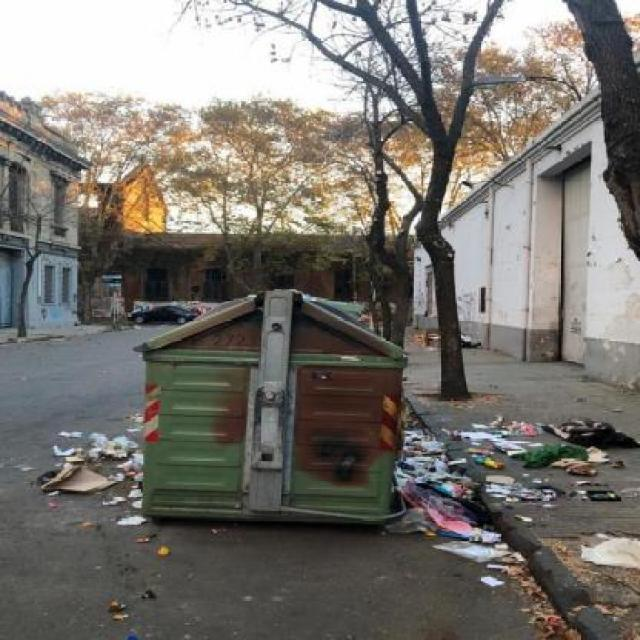garbage: (490, 408, 619, 524), (46, 412, 143, 526), (392, 425, 480, 550), (592, 513, 628, 590), (416, 326, 483, 352)
